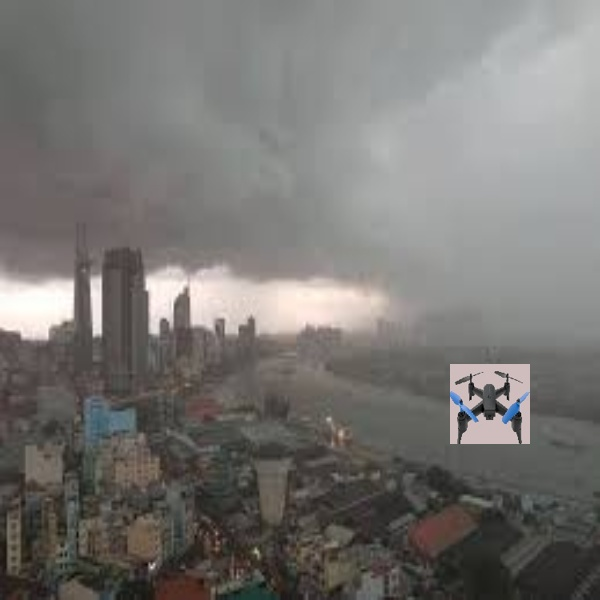drone: (451, 359, 530, 443)
